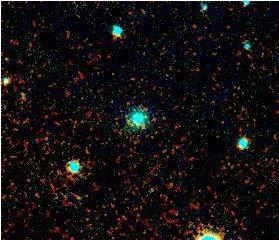star: (7, 79, 37, 109)
